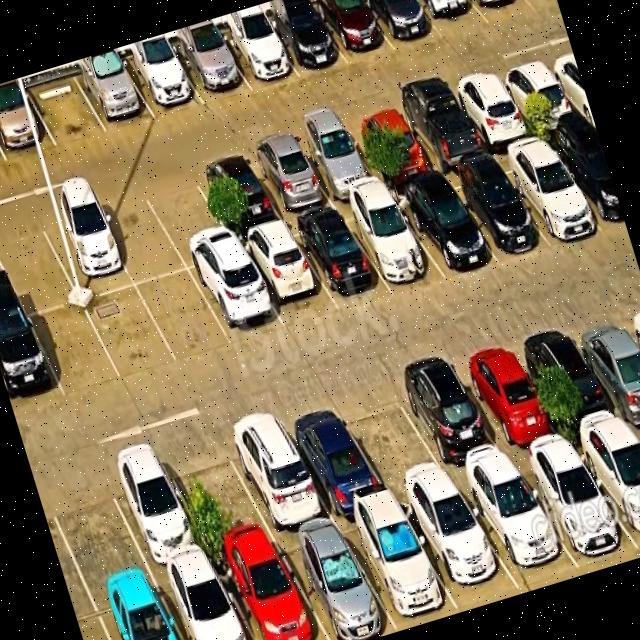empty: (157, 430, 274, 556), (39, 462, 149, 593), (332, 378, 452, 497), (140, 169, 238, 269), (92, 187, 186, 284), (83, 285, 178, 380), (136, 270, 232, 363), (29, 302, 121, 398), (0, 217, 78, 315), (25, 73, 107, 146)
occupied: (387, 356, 512, 483), (336, 502, 459, 631), (456, 465, 579, 588), (397, 486, 520, 608), (514, 448, 639, 568), (217, 407, 333, 536), (448, 339, 568, 463), (273, 522, 398, 640), (97, 445, 211, 573), (274, 395, 390, 517), (515, 320, 629, 442), (212, 540, 328, 640), (492, 141, 603, 243), (236, 225, 338, 330), (390, 180, 498, 279), (439, 163, 547, 261), (288, 209, 391, 310), (338, 195, 445, 291), (36, 201, 134, 300), (565, 306, 640, 424), (543, 127, 626, 231), (190, 255, 285, 345), (572, 426, 640, 549), (153, 558, 254, 640), (393, 90, 489, 173), (191, 153, 283, 238), (243, 138, 334, 219), (342, 107, 435, 184), (290, 124, 381, 202), (447, 73, 536, 150), (494, 59, 582, 134), (0, 313, 65, 414), (263, 4, 347, 76), (91, 575, 182, 640), (73, 60, 155, 132), (120, 48, 204, 118), (216, 22, 299, 89), (310, 0, 394, 64), (172, 35, 250, 103), (0, 87, 56, 161), (363, 0, 442, 50), (414, 0, 489, 39), (471, 0, 534, 23)
